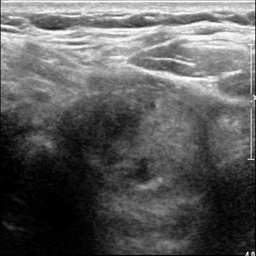mass: (60, 94, 203, 193)
